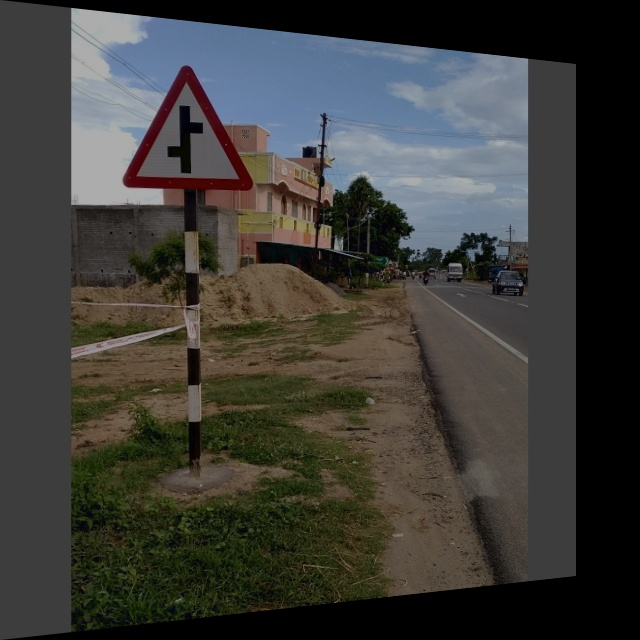Staggered_Intersection: (125, 49, 256, 201)
